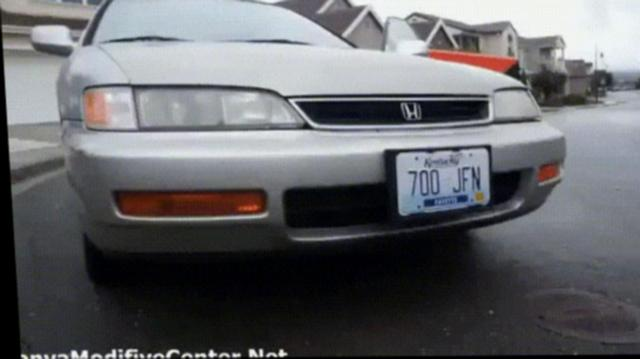License_Plate: (379, 139, 505, 222)
